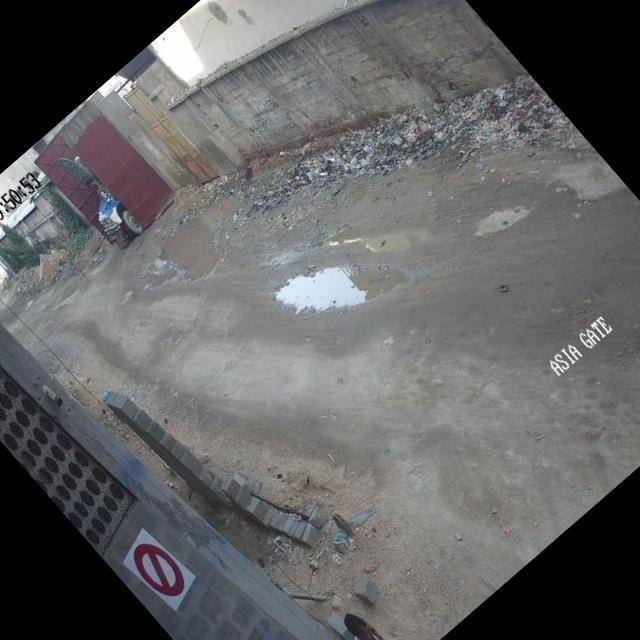person: (335, 592, 427, 640)
